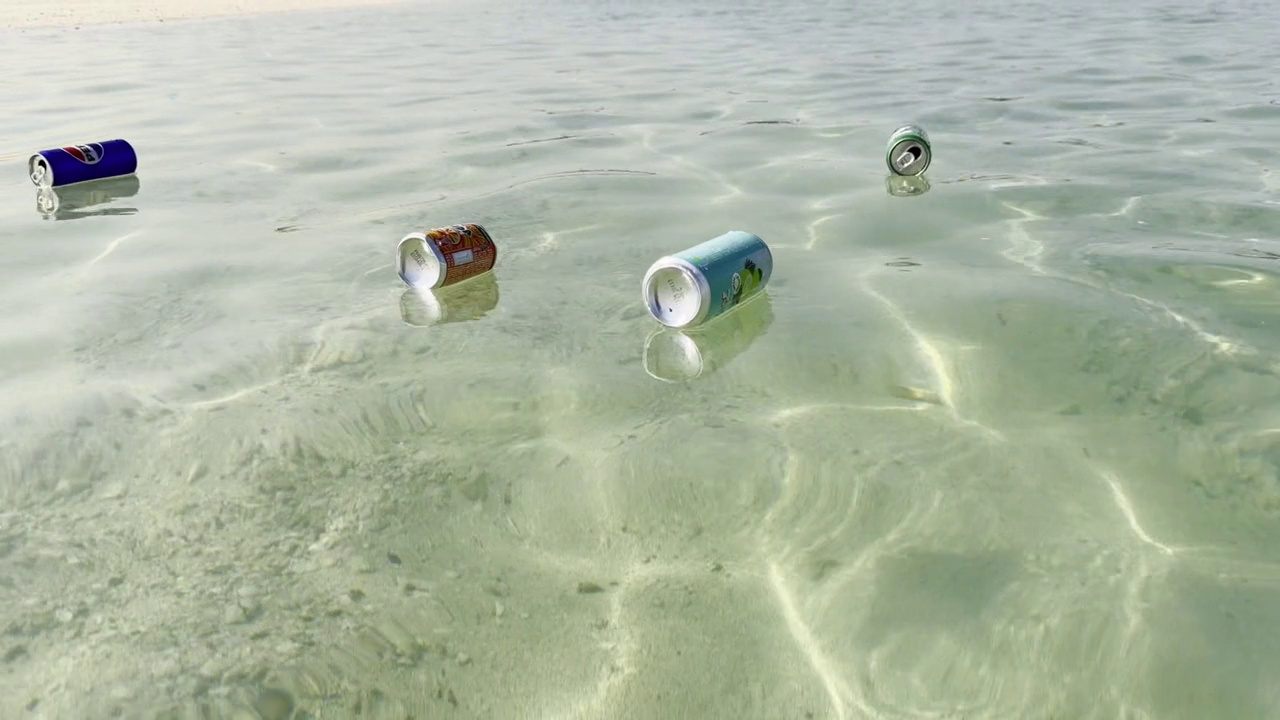debris: (634, 223, 781, 332), (391, 213, 503, 297), (25, 126, 147, 195), (883, 117, 933, 183)
